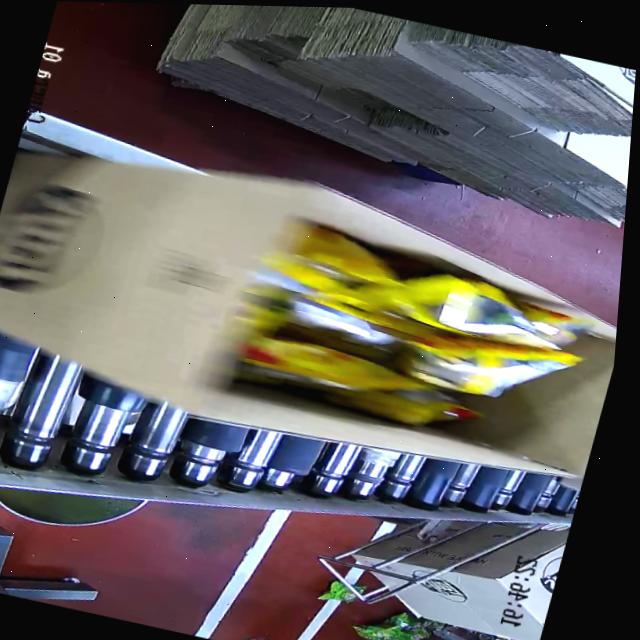SALTED: (215, 234, 602, 460)
